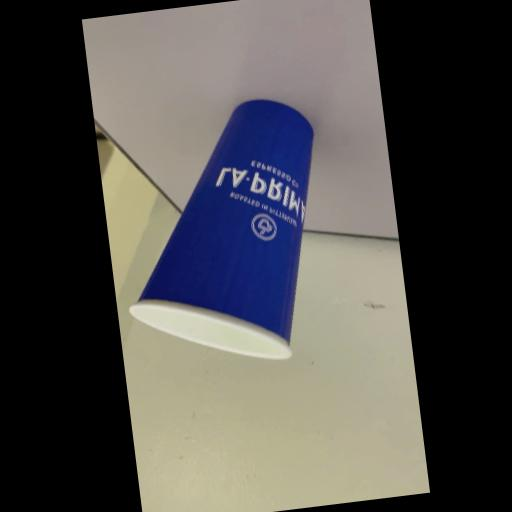lp_paper_cup: (103, 92, 352, 379)
